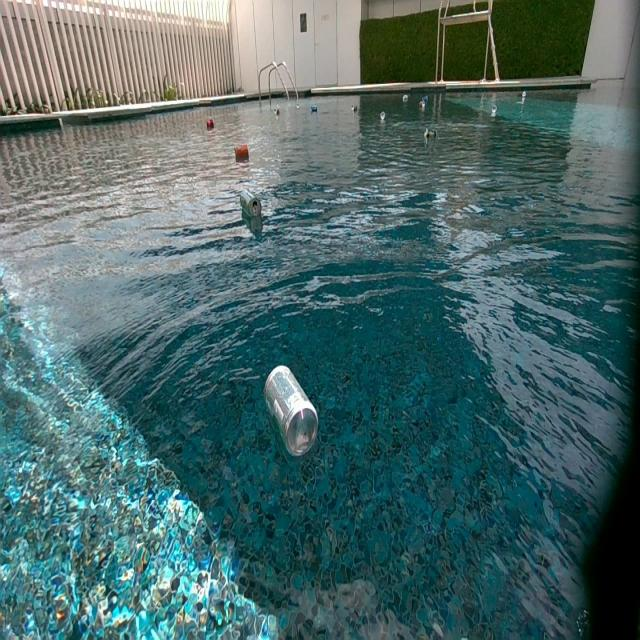Cans: (263, 360, 321, 458), (239, 191, 262, 220), (236, 144, 250, 159), (424, 128, 436, 142), (206, 117, 215, 128), (491, 103, 498, 116), (311, 105, 319, 115), (399, 96, 408, 104), (419, 100, 426, 110), (351, 105, 359, 113), (521, 91, 529, 99), (274, 106, 281, 115), (379, 111, 385, 121), (422, 96, 430, 102)
